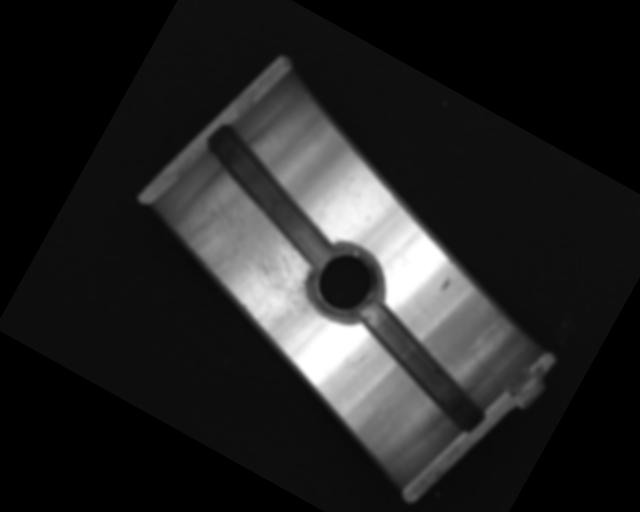bruise: (437, 275, 454, 295)
gap: (182, 120, 360, 268), (335, 298, 507, 437)
hole: (294, 230, 399, 336)
nick: (465, 311, 502, 358), (343, 335, 381, 379)
scratch: (151, 171, 361, 365)
